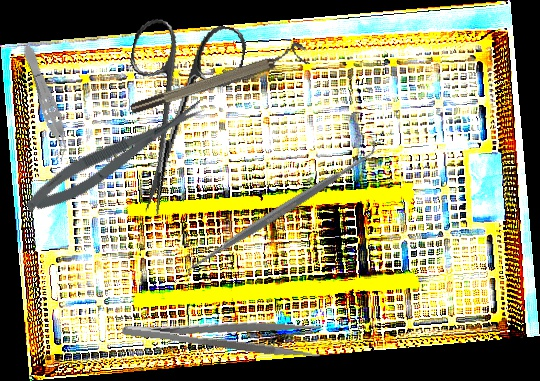Dressing Forceps: (120, 304, 325, 361)
Fixation Ring: (126, 39, 311, 118)
Iris Scissors: (99, 8, 250, 227)
Micro Scissor: (19, 94, 213, 221)
Spatula Surgical: (179, 138, 386, 281)
Tissue Forceps: (17, 42, 75, 162)
